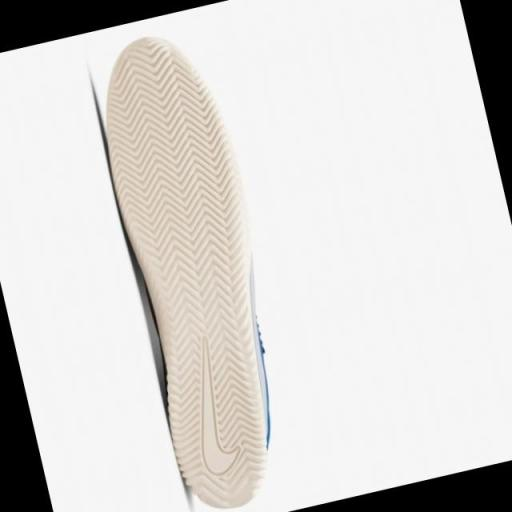Nike: (168, 312, 250, 486)
